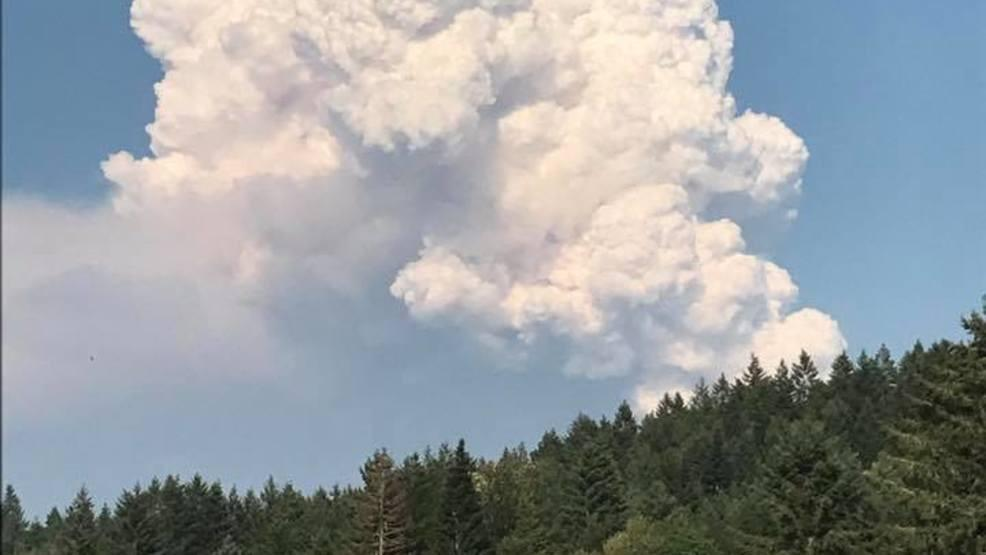smoke: (96, 2, 853, 433)
